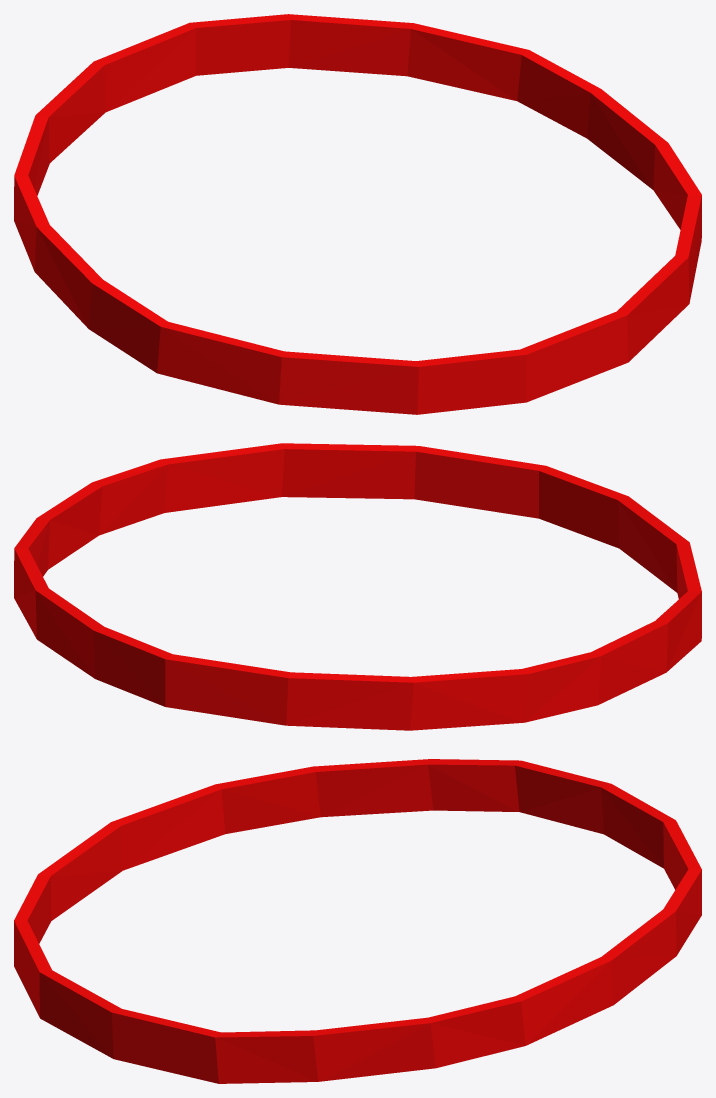
The model's file is head_headband_01.glb.
3 renders of one model, top to bottom at view 1: azimuth 30°, elevation 25°; view 2: azimuth 150°, elevation 25°; view 3: azimuth 270°, elevation 25°, orthographic. The views are drawn at different scales.
Parts seen in each view (by area): view 1: head_headband_01; view 2: head_headband_01; view 3: head_headband_01.
Boxes of the visible parts, box(x1,y1,x2,y2) form: head_headband_01: box(14, 14, 701, 414); head_headband_01: box(14, 443, 701, 730); head_headband_01: box(14, 759, 701, 1083).
Bounding box in the file's own units: 0.2657 × 0.0491 × 0.2859.
Materials: 1 (1 with a texture image).
